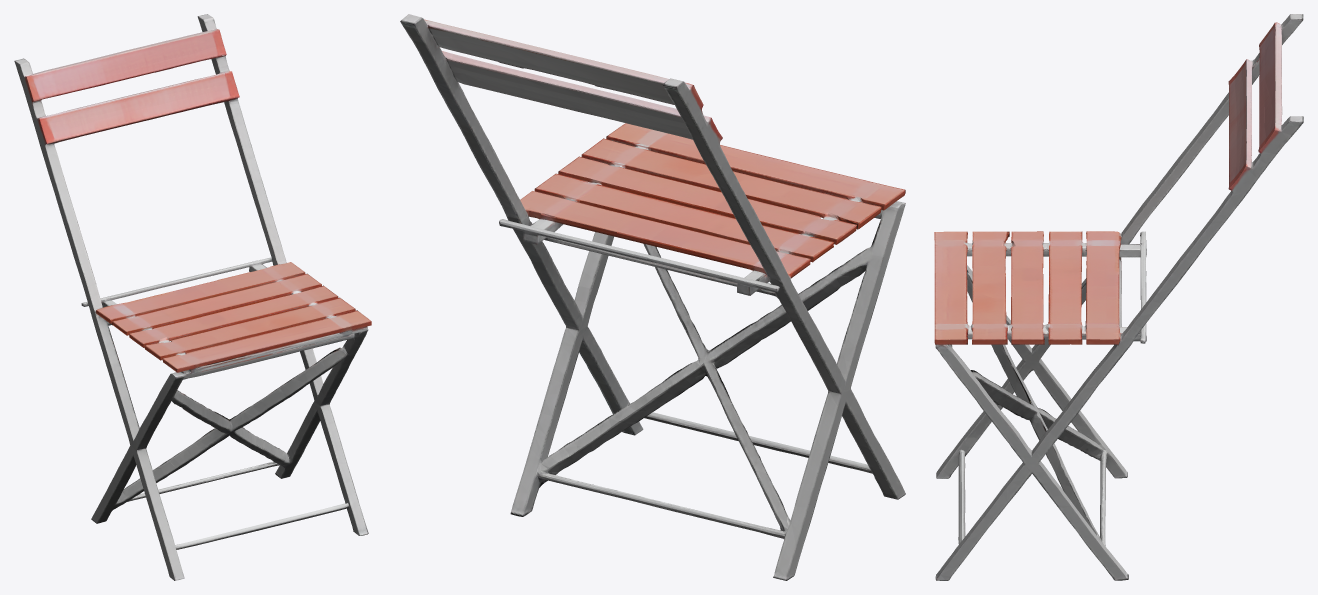
Rendered from original_slat.glb.
3 renders of one model, left to right at view 1: azimuth 30°, elevation 25°; view 2: azimuth 150°, elevation 25°; view 3: azimuth 270°, elevation 25°, orthographic. The views are drawn at different scales.
Parts seen in each view (by area): view 1: world; view 2: world; view 3: world.
Part boxes in pixels (left/top/right/bottom): world: left=14, top=14, right=371, bottom=580; world: left=400, top=14, right=905, bottom=580; world: left=934, top=14, right=1303, bottom=580.
Bounding box in the file's own units: 0.3852 × 0.7504 × 0.5463.
Materials: 1 (1 with a texture image).
